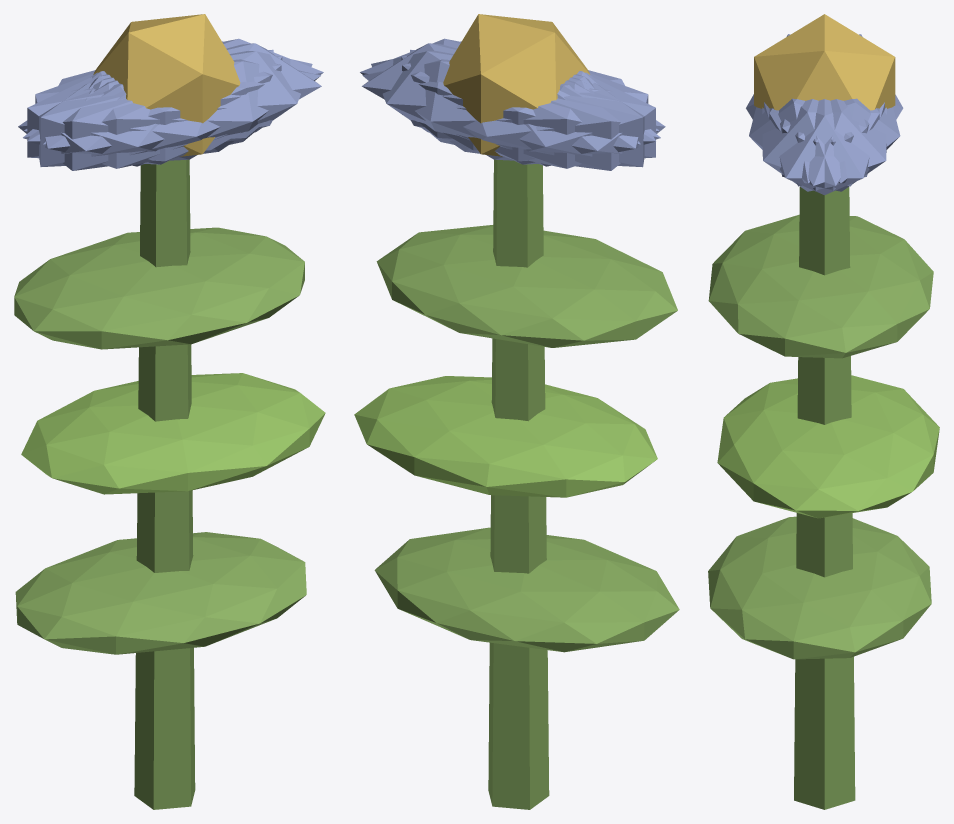
File: agave-desmetiana.glb
The picture shows the model from 3 angles, left to right: view 1: azimuth 30°, elevation 25°; view 2: azimuth 150°, elevation 25°; view 3: azimuth 270°, elevation 25°; orthographic projection.
Visible parts, largest first — view 1: leaf2, leaf0, leaf1, stem, center, petal1, petal6, petal2, petal5, petal7, petal0, petal4 (+2 smaller); view 2: leaf2, leaf1, leaf0, stem, center, petal8, petal3, petal7, petal4, petal2, petal0, petal5 (+2 smaller); view 3: leaf1, leaf2, leaf0, stem, center, petal0, petal5, petal4, petal8, petal1.
Boxes of the visible parts, bbox=[...] form: leaf2: bbox=[14, 227, 304, 349]; leaf0: bbox=[15, 532, 306, 654]; leaf1: bbox=[21, 373, 325, 494]; stem: bbox=[134, 159, 195, 809]; center: bbox=[93, 14, 240, 156]; petal1: bbox=[23, 59, 320, 168]; petal6: bbox=[18, 72, 233, 170]; petal2: bbox=[39, 49, 273, 166]; petal5: bbox=[43, 51, 312, 161]; petal7: bbox=[27, 56, 282, 164]; petal0: bbox=[93, 43, 321, 150]; petal4: bbox=[24, 38, 323, 141]; leaf2: bbox=[376, 225, 677, 347]; leaf1: bbox=[354, 376, 657, 497]; leaf0: bbox=[374, 527, 679, 652]; stem: bbox=[488, 159, 549, 809]; center: bbox=[443, 14, 590, 156]; petal8: bbox=[362, 59, 660, 168]; petal3: bbox=[449, 72, 665, 170]; petal7: bbox=[410, 49, 644, 167]; petal4: bbox=[371, 51, 640, 161]; petal2: bbox=[401, 56, 655, 164]; petal0: bbox=[362, 43, 590, 150]; petal5: bbox=[360, 38, 659, 141]; leaf1: bbox=[717, 375, 939, 518]; leaf2: bbox=[708, 214, 933, 358]; leaf0: bbox=[708, 516, 931, 659]; stem: bbox=[794, 187, 855, 809]; center: bbox=[754, 14, 895, 110]; petal0: bbox=[764, 99, 884, 195]; petal5: bbox=[762, 99, 879, 191]; petal4: bbox=[769, 99, 886, 191]; petal8: bbox=[780, 98, 900, 183]; petal1: bbox=[749, 98, 869, 183].
Bounding box in the file's own units: 0.1477 × 0.3658 × 0.1006.
